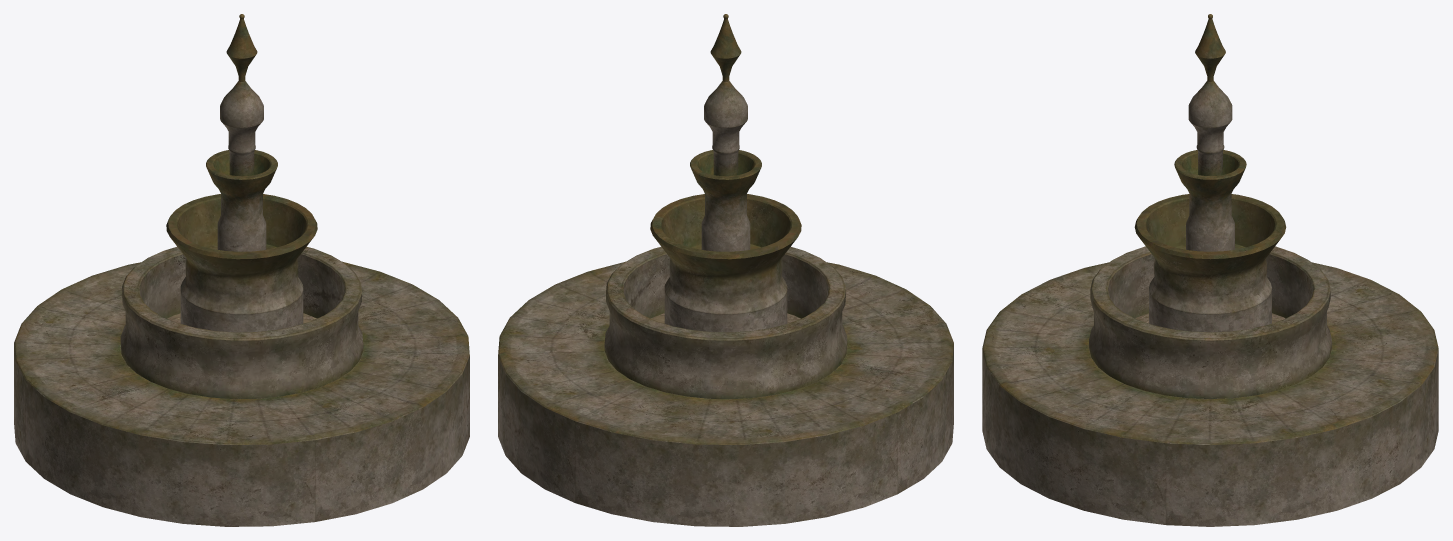
Rendered from medieval-fountain.glb.
3 renders of one model, left to right at view 1: azimuth 30°, elevation 25°; view 2: azimuth 150°, elevation 25°; view 3: azimuth 270°, elevation 25°, orthographic.
Visible parts, largest first — view 1: Object_2, Object_3, Object_4, Object_5, Object_6, Object_7; view 2: Object_2, Object_3, Object_4, Object_5, Object_6, Object_7; view 3: Object_2, Object_3, Object_4, Object_5, Object_6, Object_7.
Part boxes in pixels (x1=…): Object_2: x1=14, y1=261, x2=469, y2=444; Object_3: x1=14, y1=343, x2=469, y2=526; Object_4: x1=120, y1=246, x2=363, y2=398; Object_5: x1=166, y1=194, x2=317, y2=332; Object_6: x1=206, y1=150, x2=277, y2=251; Object_7: x1=220, y1=14, x2=263, y2=176; Object_2: x1=498, y1=261, x2=953, y2=444; Object_3: x1=498, y1=343, x2=953, y2=526; Object_4: x1=604, y1=246, x2=847, y2=398; Object_5: x1=650, y1=194, x2=801, y2=332; Object_6: x1=690, y1=150, x2=761, y2=251; Object_7: x1=704, y1=14, x2=747, y2=176; Object_2: x1=982, y1=262, x2=1438, y2=444; Object_3: x1=982, y1=350, x2=1438, y2=526; Object_4: x1=1089, y1=246, x2=1331, y2=398; Object_5: x1=1134, y1=194, x2=1286, y2=332; Object_6: x1=1174, y1=150, x2=1246, y2=251; Object_7: x1=1188, y1=14, x2=1232, y2=175.
Size of the model in its own units: 250 by 252 by 250.
Materials: 6 (6 with a texture image).
